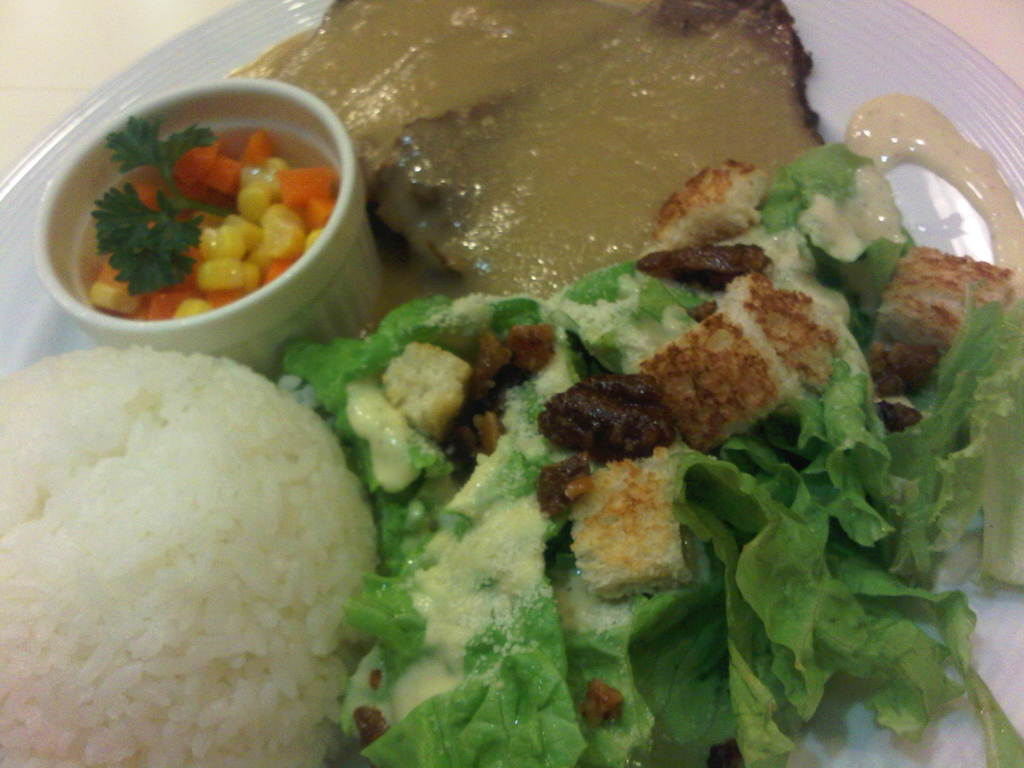salad: (271, 138, 1023, 767)
